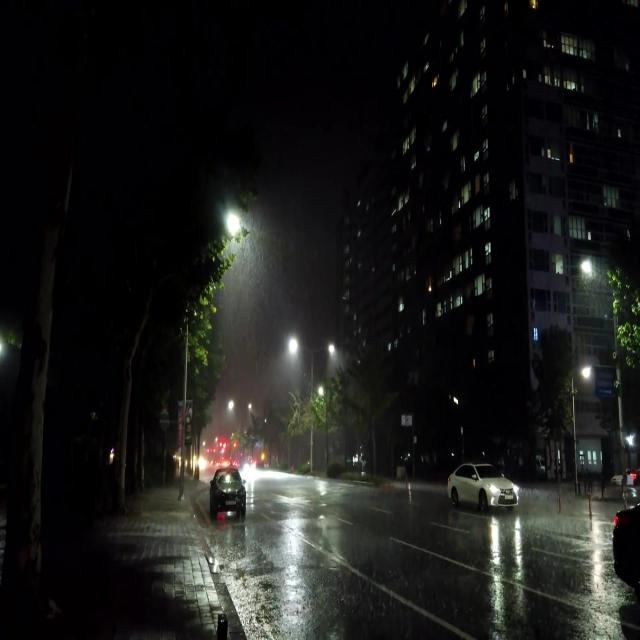Car: (447, 464, 518, 511), (207, 466, 245, 518)
